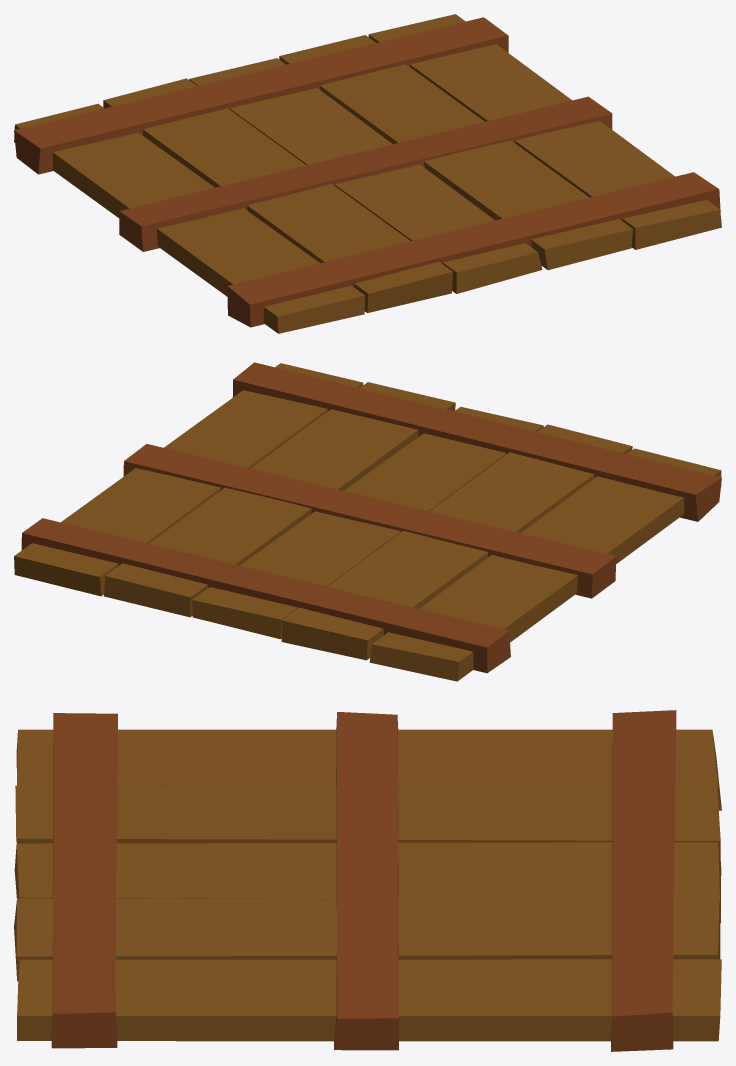
Rendered from Palette.fbx.
3 views of the same model, one above another, from view 1: azimuth 30°, elevation 25°; view 2: azimuth 150°, elevation 25°; view 3: azimuth 270°, elevation 25° (orthographic). The views are drawn at different scales.
Visible parts, largest first — view 1: Palette; view 2: Palette; view 3: Palette.
Part boxes in pixels (x1,y1,x2,y2): Palette: [14, 14, 721, 333]; Palette: [14, 362, 721, 681]; Palette: [14, 710, 721, 1051].
Bounding box in the file's own units: 155 × 9.34 × 152.
